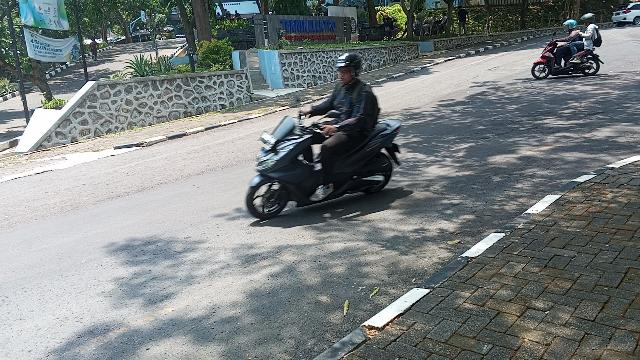helm: (337, 54, 362, 83), (582, 15, 597, 25), (565, 21, 578, 32)
motor: (249, 117, 406, 219), (533, 42, 605, 80)
